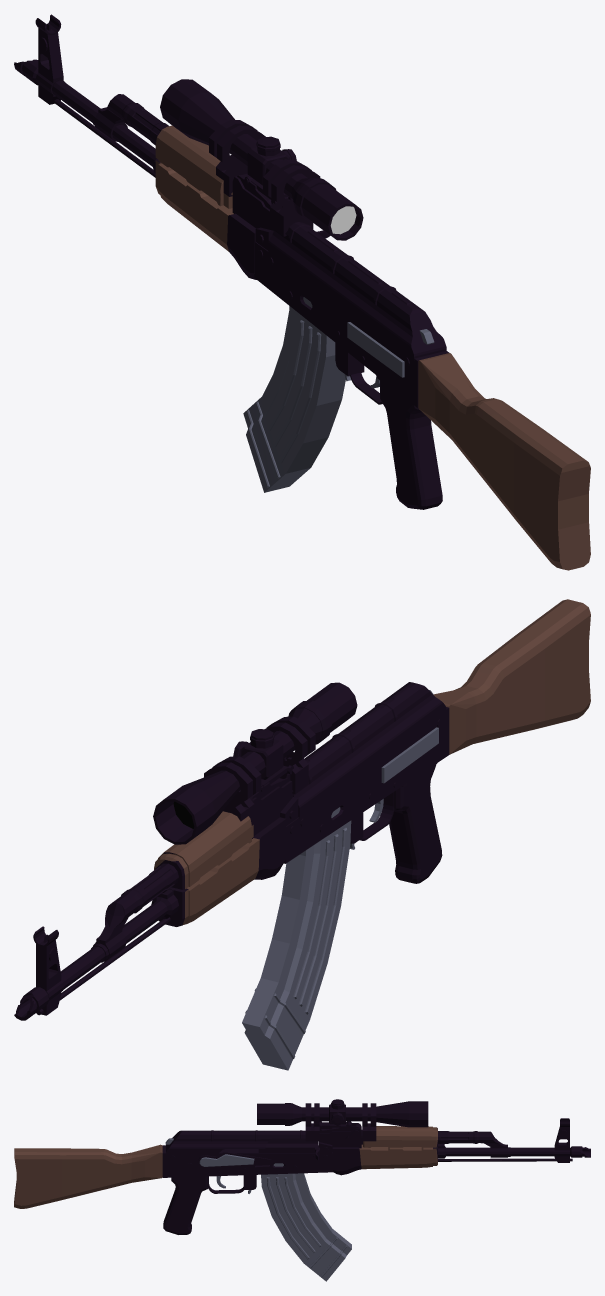
File: ak47sniper 1.fbx
3 renders of one model, top to bottom at view 1: azimuth 30°, elevation 25°; view 2: azimuth 150°, elevation 25°; view 3: azimuth 270°, elevation 25°, orthographic. The views are drawn at different scales.
Parts seen in each view (by area): view 1: AK74, AK74.002, Mag, TAN_LR_Scope_01, Rings, Bits and bobs; view 2: AK74, AK74.002, Mag, TAN_LR_Scope_01, Rings, Bits and bobs; view 3: AK74, AK74.002, Mag, TAN_LR_Scope_01, Rings, Bolt, Bits and bobs.
Part boxes in pixels (x1,y1,x2,y2): AK74: (14, 14, 449, 509); AK74.002: (155, 125, 590, 570); Mag: (243, 306, 345, 492); TAN_LR_Scope_01: (160, 79, 363, 240); Rings: (209, 119, 320, 236); Bits and bobs: (303, 297, 434, 381); AK74: (14, 682, 449, 1020); AK74.002: (154, 599, 590, 924); Mag: (242, 820, 351, 1070); TAN_LR_Scope_01: (153, 682, 357, 844); Rings: (204, 716, 315, 825); Bits and bobs: (331, 690, 438, 849); AK74: (162, 1118, 590, 1234); AK74.002: (14, 1126, 437, 1208); Mag: (261, 1173, 351, 1281); TAN_LR_Scope_01: (257, 1099, 428, 1127); Rings: (305, 1103, 376, 1141); Bolt: (258, 1138, 319, 1159); Bits and bobs: (165, 1138, 283, 1193).
Bounding box in the file's own units: 6.57 × 31.93 × 94.02.
